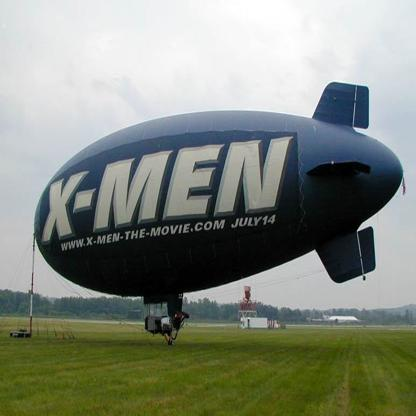Airship: (34, 80, 407, 342)
